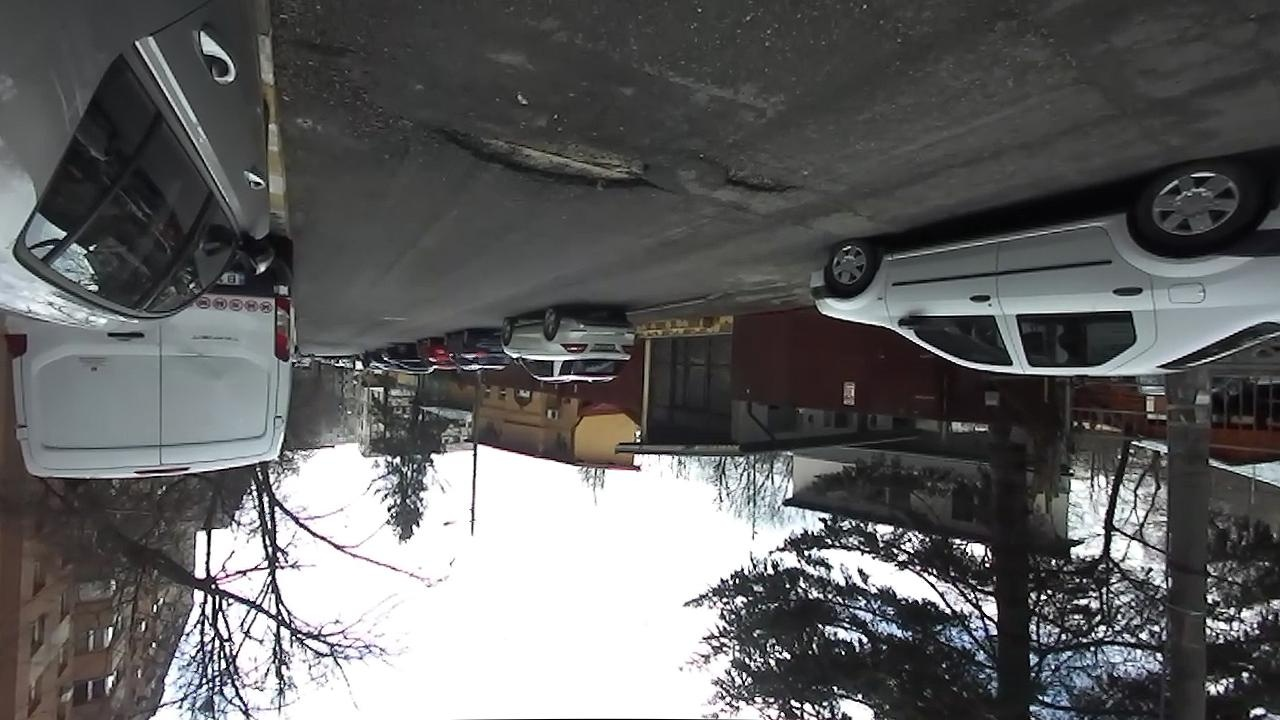pothole: (416, 118, 669, 198), (695, 149, 804, 197)
